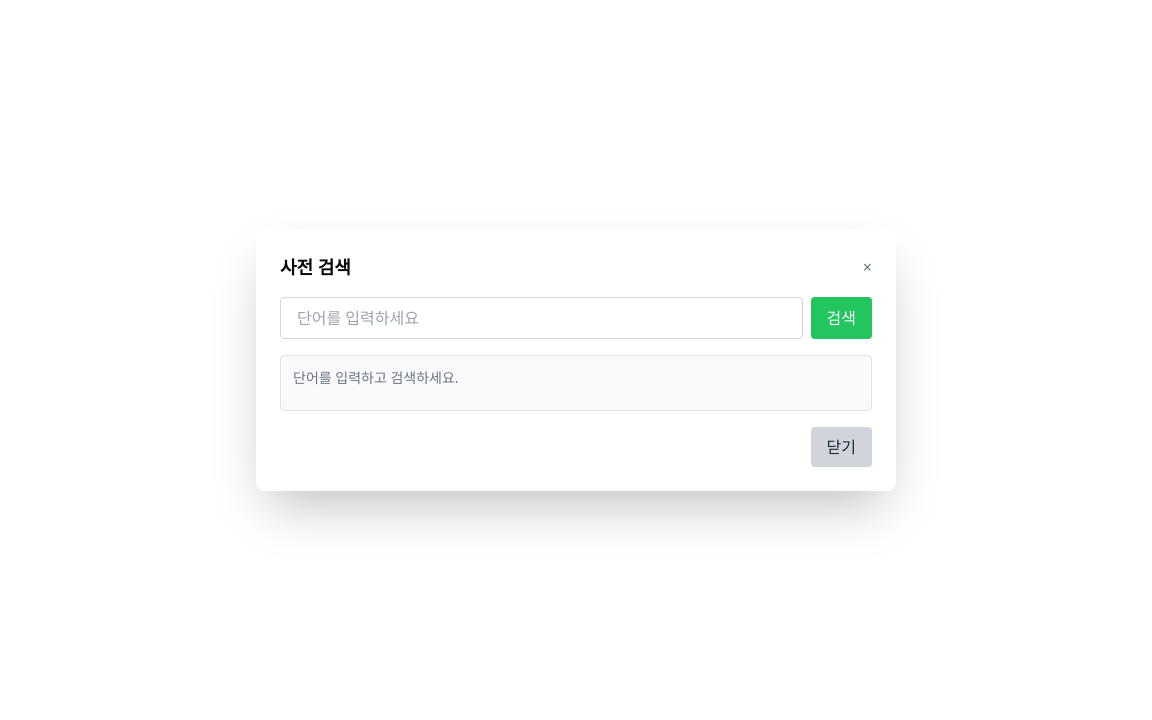
it: DictionaryModal › should show message for unknown word
In the field with placeholder "단어를 입력하세요": (541,318) [280, 297, 802, 339], type "없는단어"
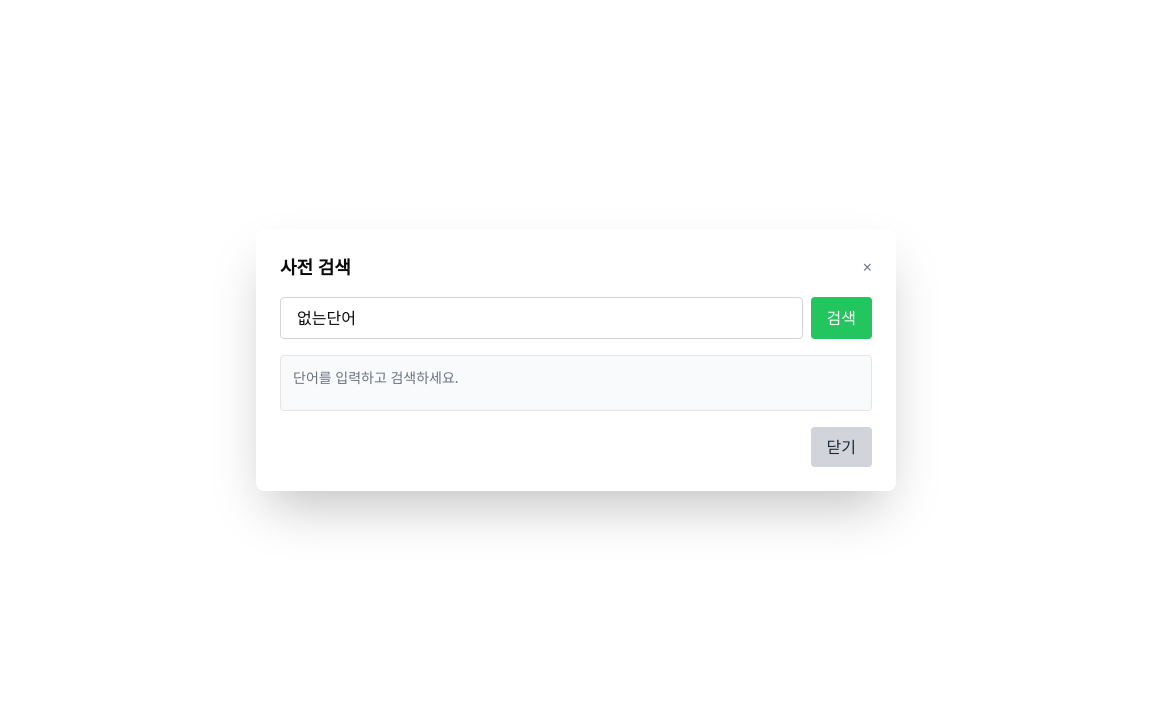
Click the button "검색": (841,318) [810, 297, 872, 339]
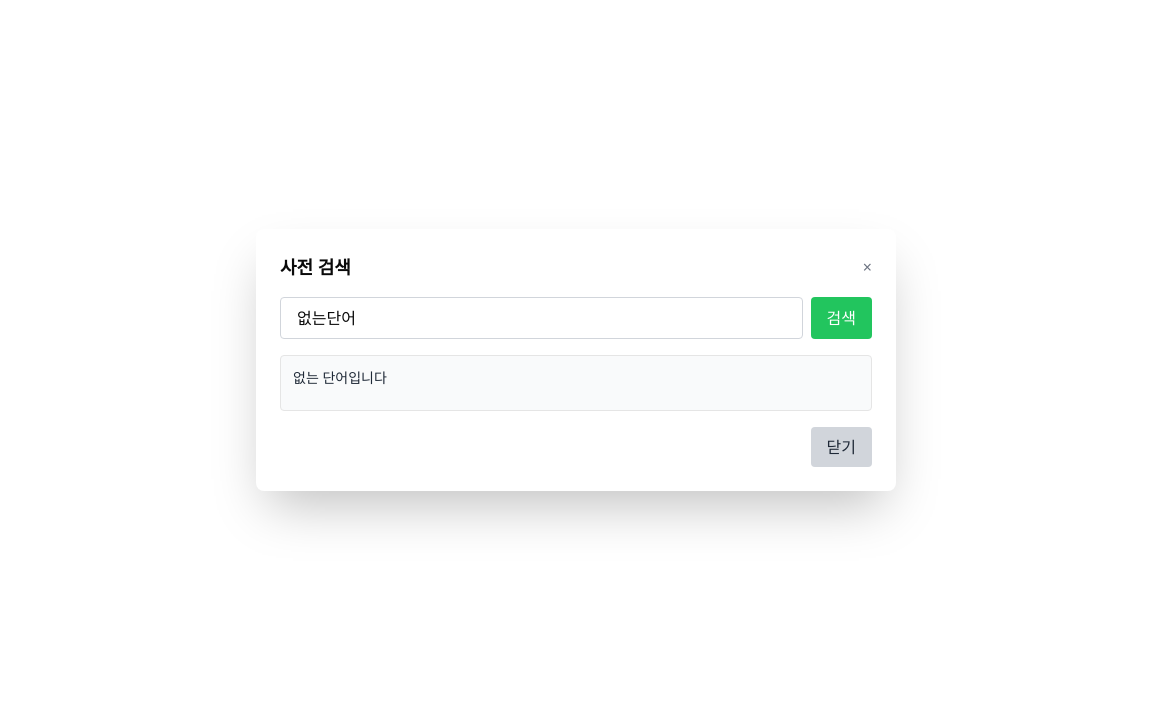
Expected: the text "없는 단어입니다" is shown, [293, 368, 387, 387]
